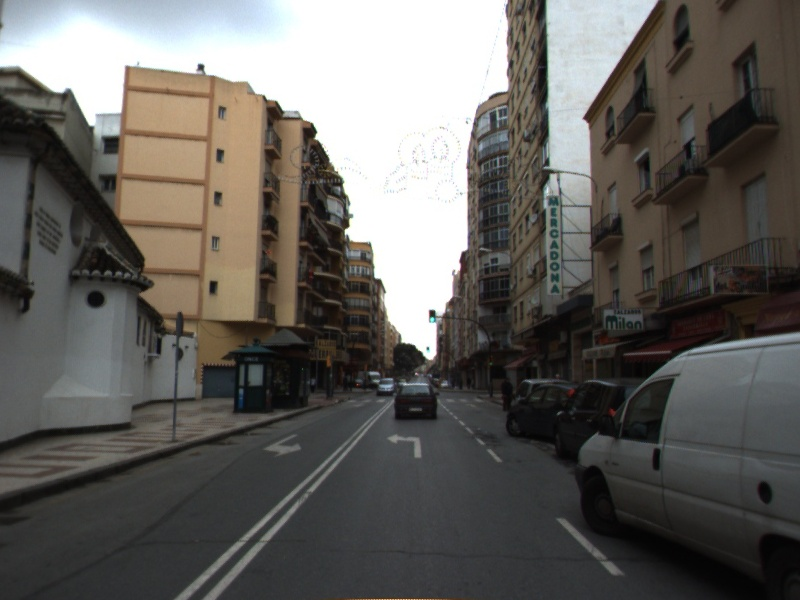LEFT: (386, 432, 423, 459)
